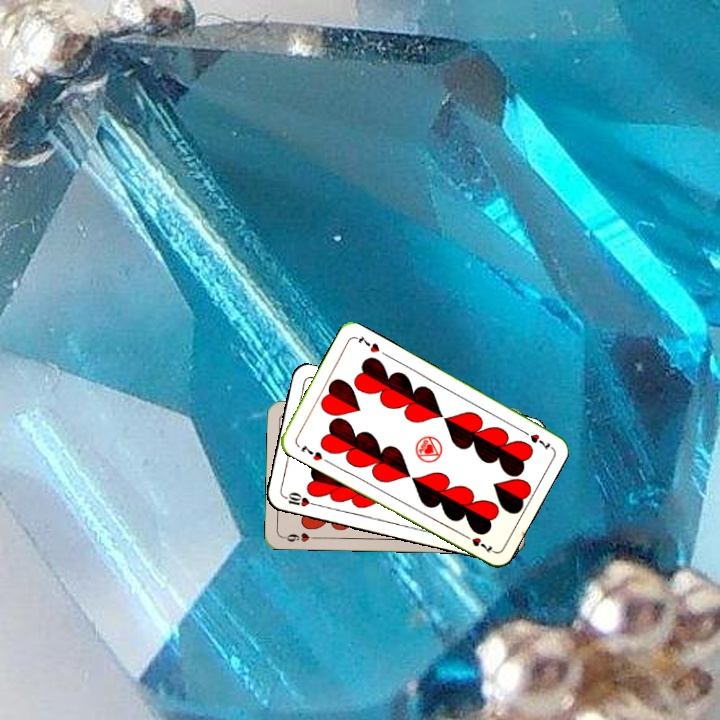H10: (279, 488, 319, 509)
H7: (517, 425, 554, 453), (297, 440, 325, 463)
H9: (279, 529, 320, 545)
